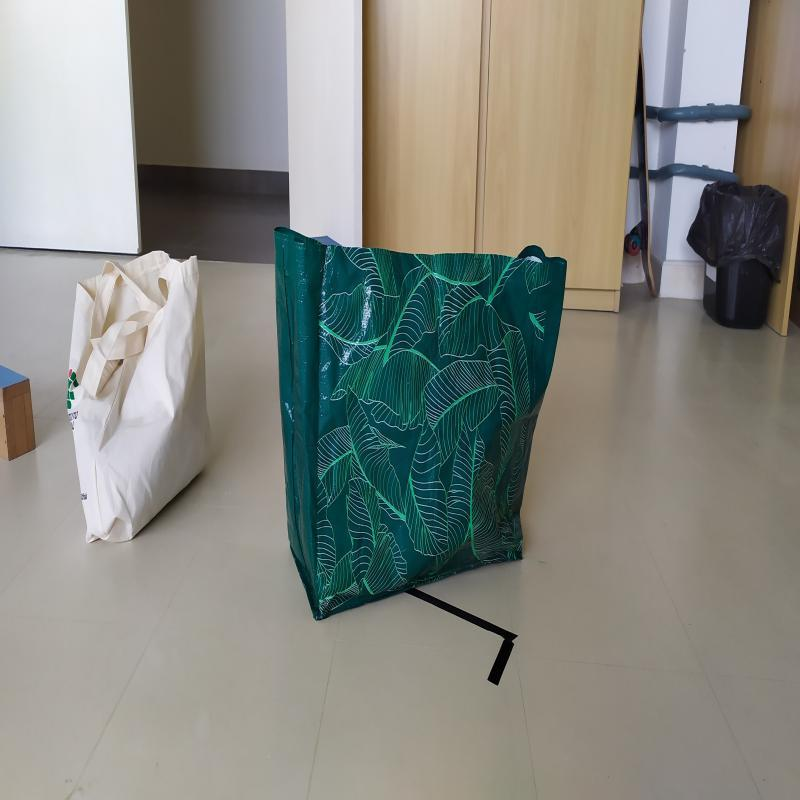Bag: (271, 221, 568, 625), (68, 241, 214, 549)
